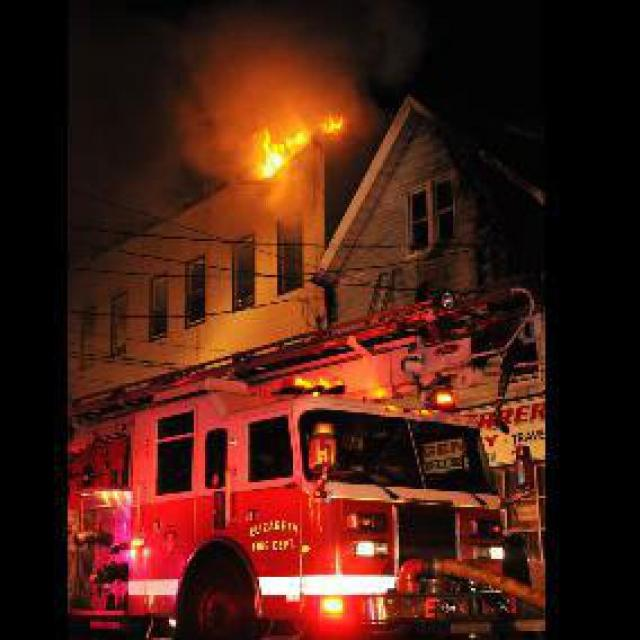fire: (218, 90, 356, 202)
